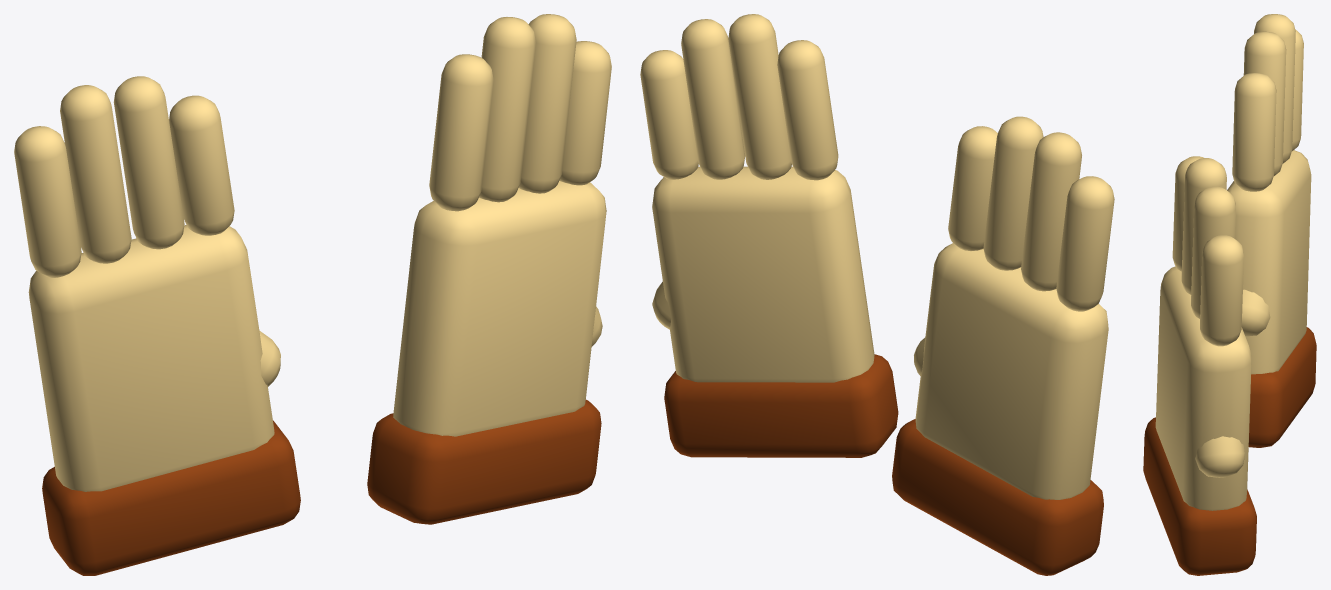
File: reward-gloves-gold.glb
The picture shows the model from 3 angles, left to right: view 1: azimuth 30°, elevation 25°; view 2: azimuth 150°, elevation 25°; view 3: azimuth 270°, elevation 25°; orthographic projection. The views are drawn at different scales.
Visible parts, largest first — view 1: palm, palm.001, cuff, cuff.001, finger.001, finger.002, finger.004, finger.005, finger, finger.006, finger.003, finger.007 (+1 smaller); view 2: palm.001, palm, cuff.001, cuff, finger.006, finger.005, finger.004, finger.001, finger.002, finger, finger.007, finger.003; view 3: palm.001, palm, cuff.001, finger.003, cuff, finger.007, finger.006, finger.002, finger.005, finger.001, thumb.001, finger.004 (+2 smaller).
Boxes of the visible parts, left/top/right/bottom form: palm: left=28, top=225, right=274, bottom=491; palm.001: left=393, top=181, right=606, bottom=436; cuff: left=42, top=420, right=300, bottom=575; cuff.001: left=367, top=399, right=601, bottom=524; finger.001: left=60, top=85, right=131, bottom=263; finger.002: left=113, top=76, right=184, bottom=249; finger.004: left=429, top=54, right=493, bottom=211; finger.005: left=479, top=17, right=535, bottom=202; finger: left=14, top=126, right=81, bottom=277; finger.006: left=518, top=14, right=576, bottom=193; finger.003: left=169, top=95, right=234, bottom=235; finger.007: left=559, top=41, right=611, bottom=185; palm.001: left=652, top=166, right=874, bottom=382; palm: left=915, top=243, right=1108, bottom=499; cuff.001: left=664, top=354, right=898, bottom=457; cuff: left=892, top=419, right=1103, bottom=575; finger.006: left=681, top=19, right=745, bottom=179; finger.005: left=728, top=14, right=791, bottom=179; finger.004: left=777, top=40, right=838, bottom=180; finger.001: left=1021, top=132, right=1081, bottom=291; finger.002: left=983, top=116, right=1043, bottom=270; finger: left=1056, top=176, right=1114, bottom=311; finger.007: left=640, top=50, right=698, bottom=179; finger.003: left=948, top=126, right=997, bottom=250; palm.001: left=1155, top=266, right=1251, bottom=510; palm: left=1227, top=150, right=1311, bottom=374; cuff.001: left=1143, top=417, right=1256, bottom=575; finger.003: left=1232, top=73, right=1276, bottom=191; cuff: left=1248, top=327, right=1316, bottom=447; finger.007: left=1200, top=235, right=1243, bottom=346; finger.006: left=1191, top=186, right=1235, bottom=318; finger.002: left=1243, top=31, right=1286, bottom=176; finger.005: left=1181, top=158, right=1226, bottom=294; finger.001: left=1254, top=14, right=1295, bottom=163; thumb.001: left=1195, top=436, right=1244, bottom=477; finger.004: left=1172, top=156, right=1203, bottom=271.
Size of the model in its own units: 2.26 by 1.88 by 0.7566.
